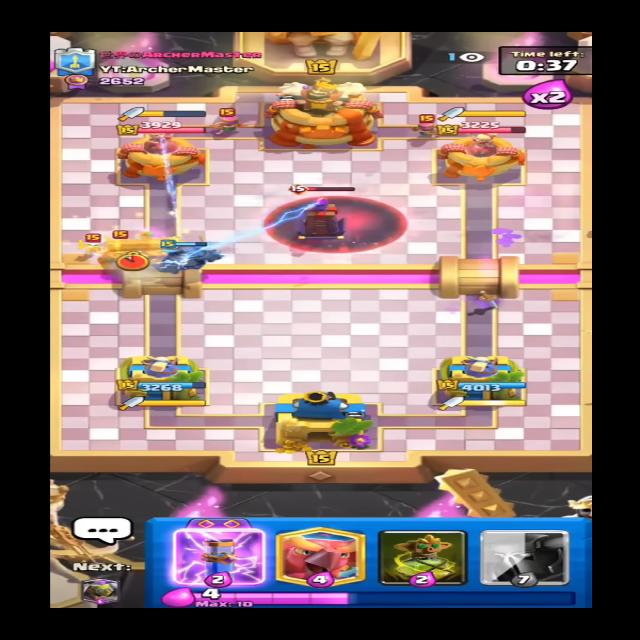archer: (212, 109, 248, 133), (408, 116, 442, 137)
evo-tesla: (283, 182, 365, 242)
skeleton: (76, 229, 106, 252)
